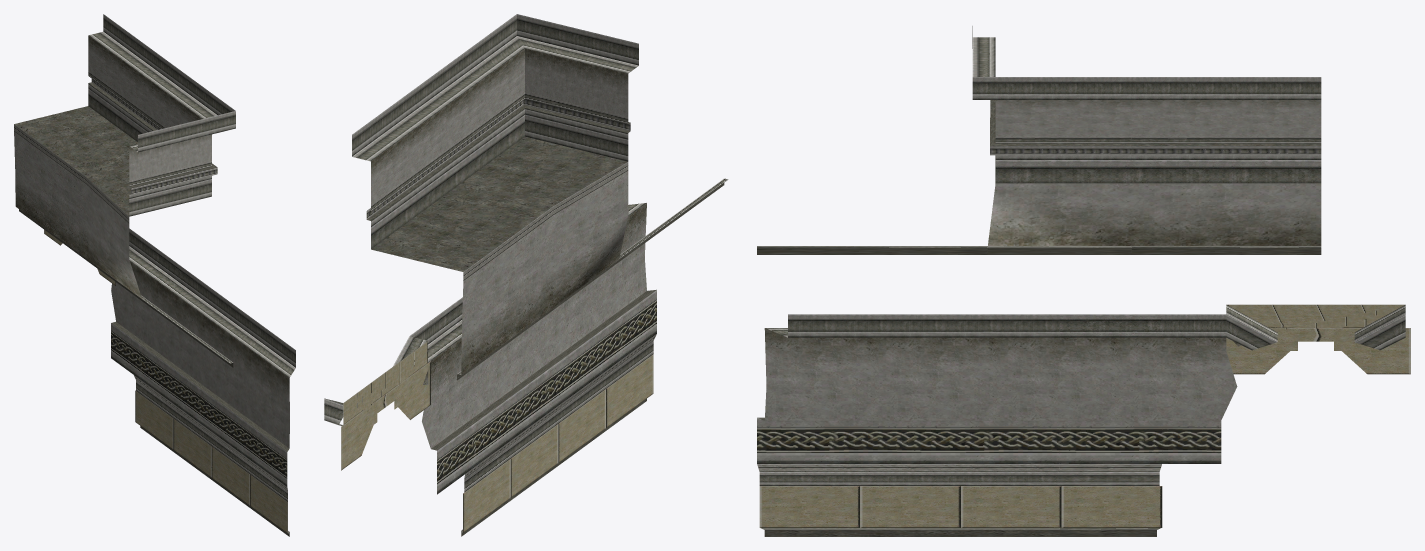
Rendered from DWARF_PALACE_FORGE_WALL01B01.fbx.
The picture shows the model from 3 angles, left to right: view 1: azimuth 30°, elevation 25°; view 2: azimuth 150°, elevation 25°; view 3: azimuth 270°, elevation 25°; orthographic projection. The views are drawn at different scales.
Visible parts, largest first — view 1: DWARF_PALACE_FORGE_WALL01B01; view 2: DWARF_PALACE_FORGE_WALL01B01; view 3: DWARF_PALACE_FORGE_WALL01B01.
Boxes of the visible parts, box(x1,y1,x2,y2) form: DWARF_PALACE_FORGE_WALL01B01: box(14, 14, 295, 536); DWARF_PALACE_FORGE_WALL01B01: box(324, 14, 728, 536); DWARF_PALACE_FORGE_WALL01B01: box(757, 26, 1410, 536).
Size of the model in its own units: 58089 by 205000 by 255004.
Materials: 7 (7 with a texture image).
